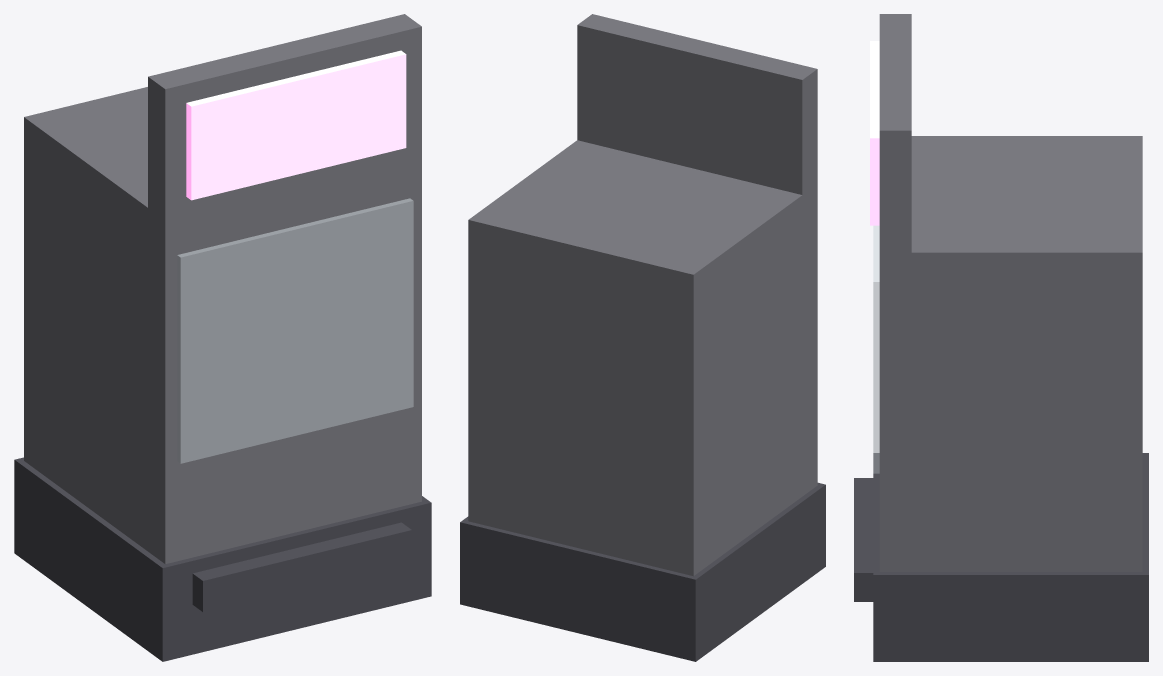
Rendered from casino-floor-and-back-rooms-coin-pusher-ea5ba6e2__27017.glb.
The picture shows the model from 3 angles, left to right: view 1: azimuth 30°, elevation 25°; view 2: azimuth 150°, elevation 25°; view 3: azimuth 270°, elevation 25°; orthographic projection. The views are drawn at different scales.
Visible parts, largest first — view 1: coin-pusher; view 2: coin-pusher; view 3: coin-pusher.
Boxes of the visible parts, x1,y1,x2,y2 form: coin-pusher: (14, 14, 431, 661); coin-pusher: (460, 14, 825, 661); coin-pusher: (854, 14, 1148, 661).
Size of the model in its own units: 0.9 by 1.82 by 0.92.
